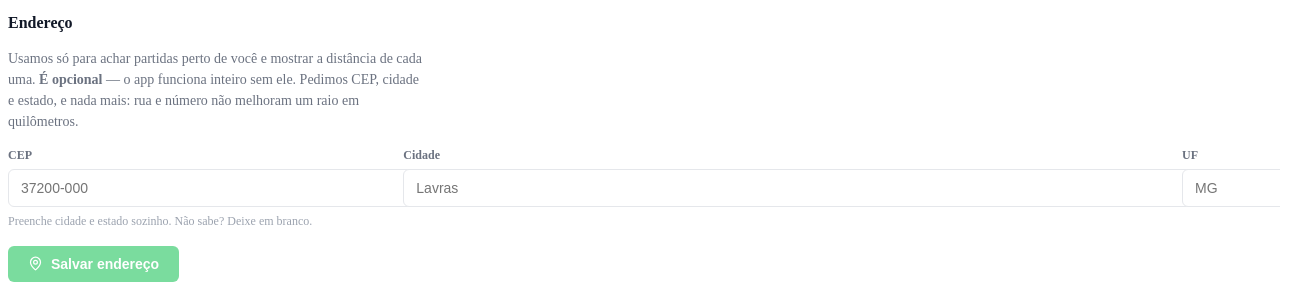
Scenario: EnderecoDoJogador › CEP recusado mostra o motivo e não apaga o que foi digitado
In the field labelled "CEP": coordinates (213, 188) [8,169,417,207], type "99999999"
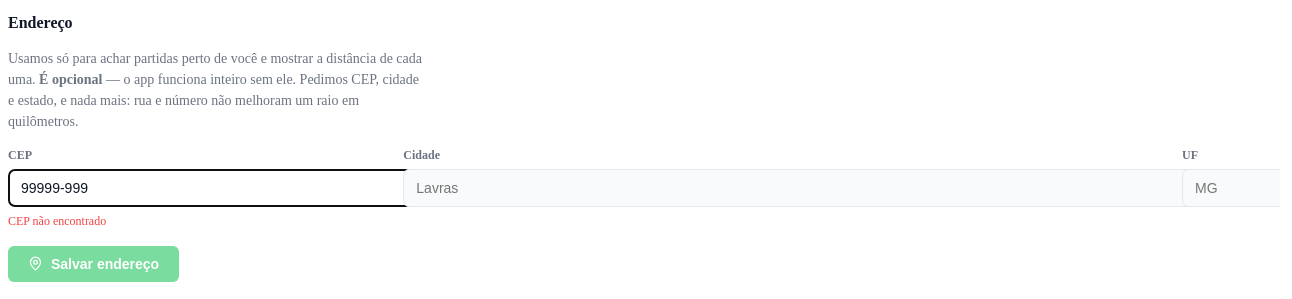
Result: the text "CEP não encontrado" is shown at [8,214,106,228]
Result: the field labelled "CEP" holds "99999-999" at [8,169,417,207]
